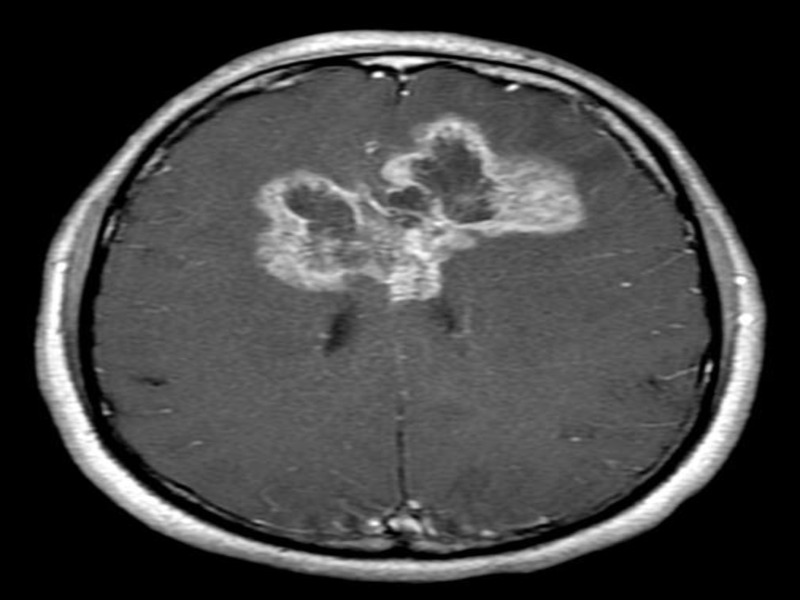tumor: (249, 114, 590, 353)
